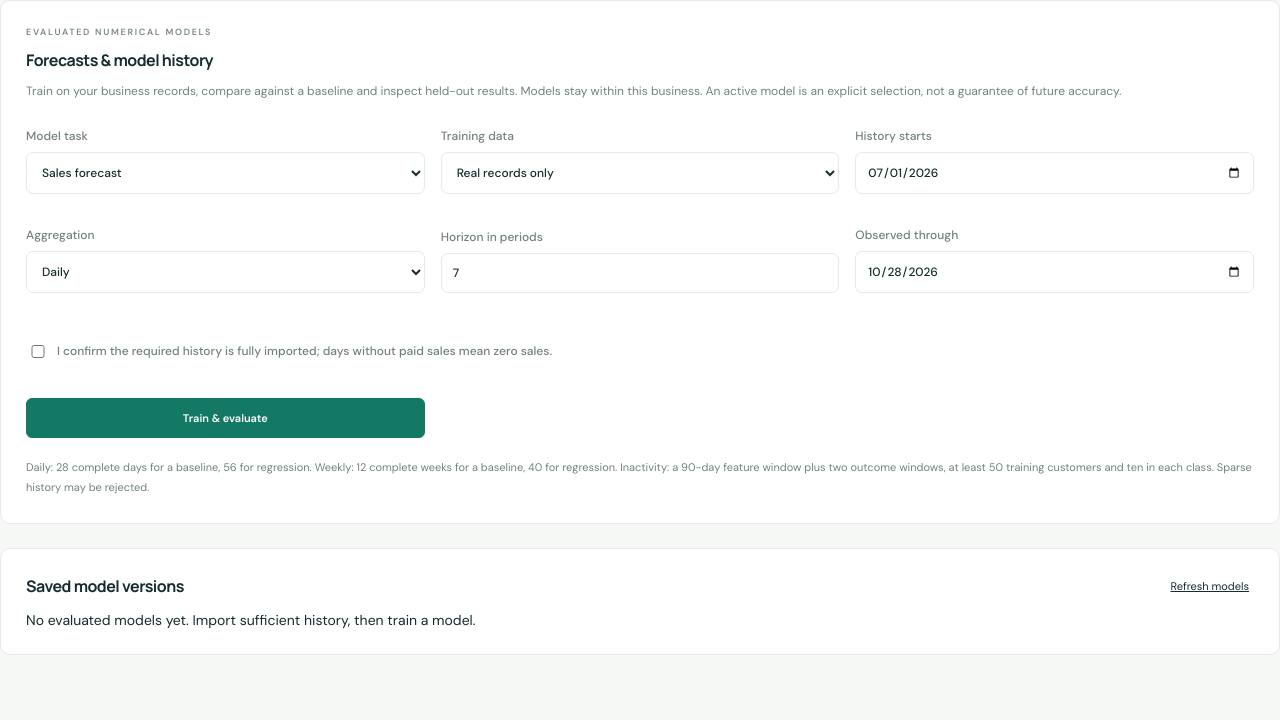
Test: Forecasting workspace › sends explicit import coverage and handles insufficient history
Click the checkbox at (38, 351), box [30,345,46,358]
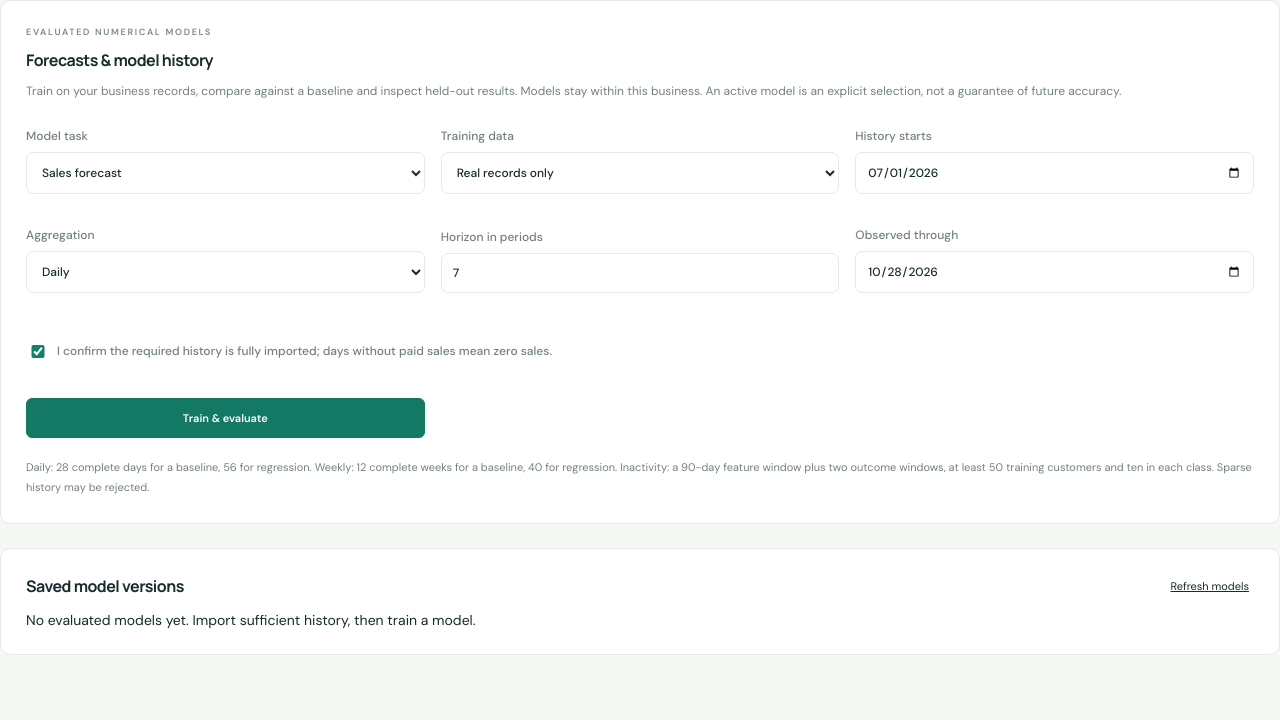
Submit the form named "Train & evaluate", box [26,128,1254,438]
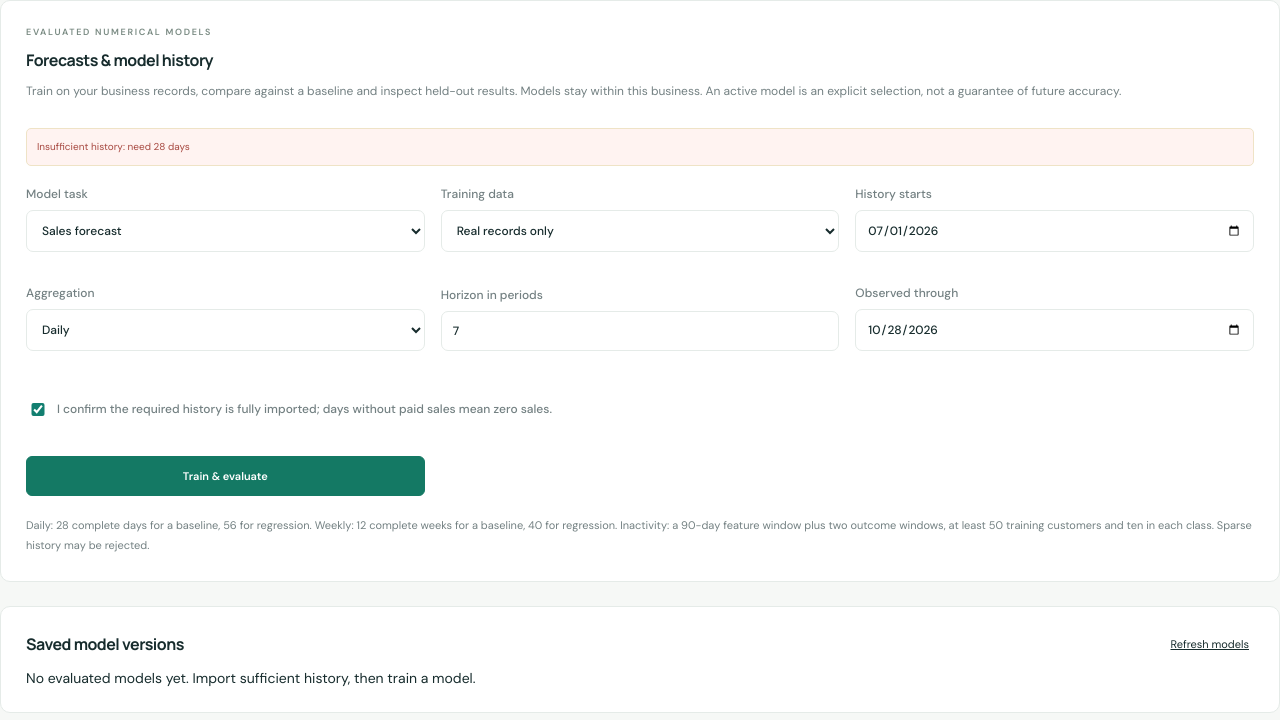
Check: the message shows "Insufficient history", box [37,140,190,153]
